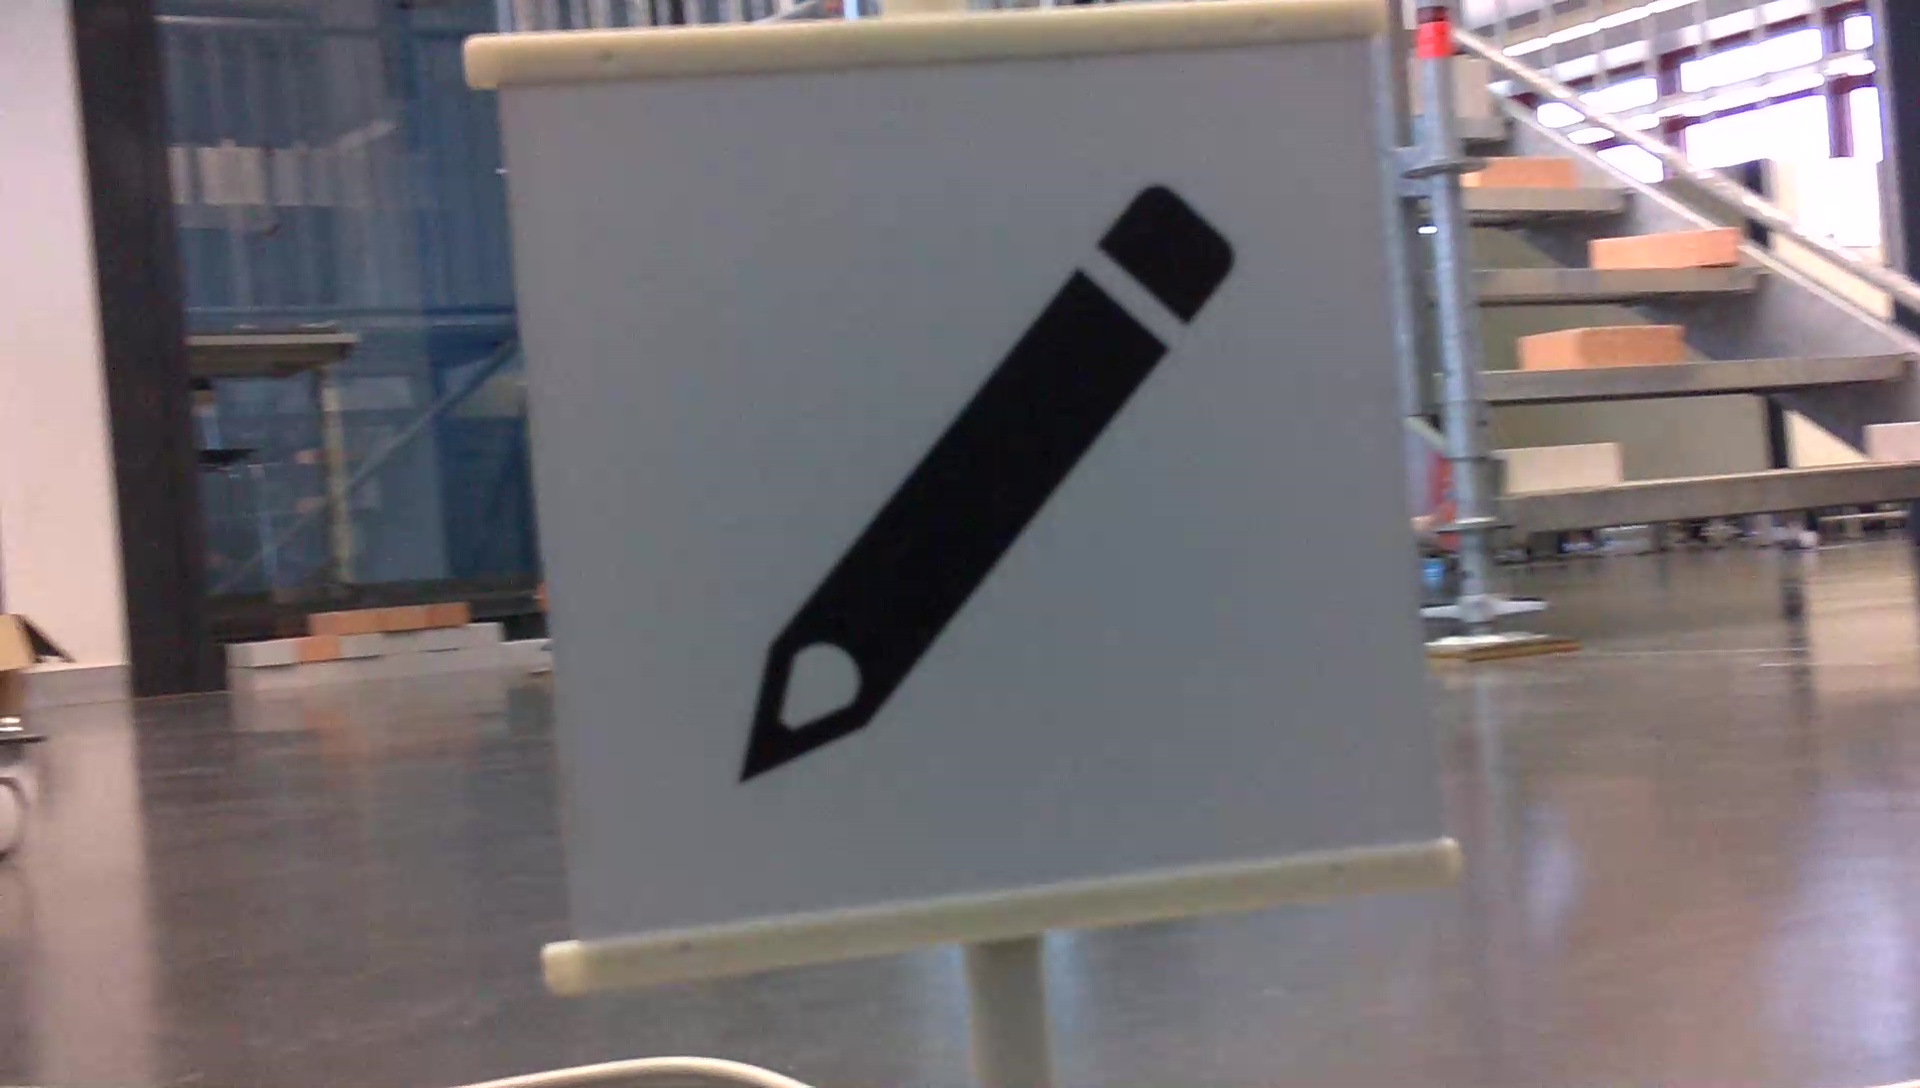brick: (1518, 324, 1683, 367), (1590, 228, 1739, 265), (1509, 440, 1618, 489), (1477, 158, 1578, 187), (1865, 425, 1917, 462), (1455, 61, 1485, 119)
edge: (1507, 466, 1917, 530), (1480, 349, 1905, 400), (1476, 265, 1763, 291), (1460, 189, 1633, 210)
pencil: (723, 165, 1245, 803)
